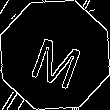M_N: (24, 23, 86, 87)
